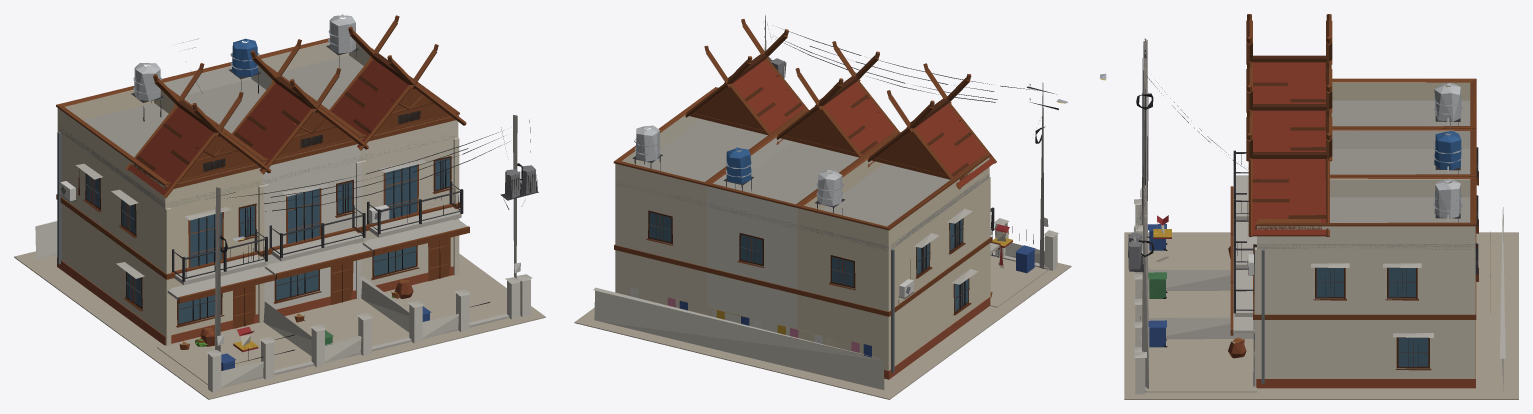
Rendered from home_3.glb.
3 views of the same model, side by side, from view 1: azimuth 30°, elevation 25°; view 2: azimuth 150°, elevation 25°; view 3: azimuth 270°, elevation 25° (orthographic). The views are drawn at different scales.
Parts seen in each view (by area): view 1: body, windows; view 2: body, windows; view 3: body, windows.
Part boxes in pixels (x1=…): body: x1=14, y1=14, x2=545, y2=399; windows: x1=86, y1=110, x2=450, y2=323; body: x1=574, y1=15, x2=1071, y2=399; windows: x1=649, y1=102, x2=1065, y2=311; body: x1=1100, y1=14, x2=1518, y2=399; windows: x1=1101, y1=79, x2=1476, y2=366.
Size of the model in its own units: 15.9 by 11.1 by 16.88.
